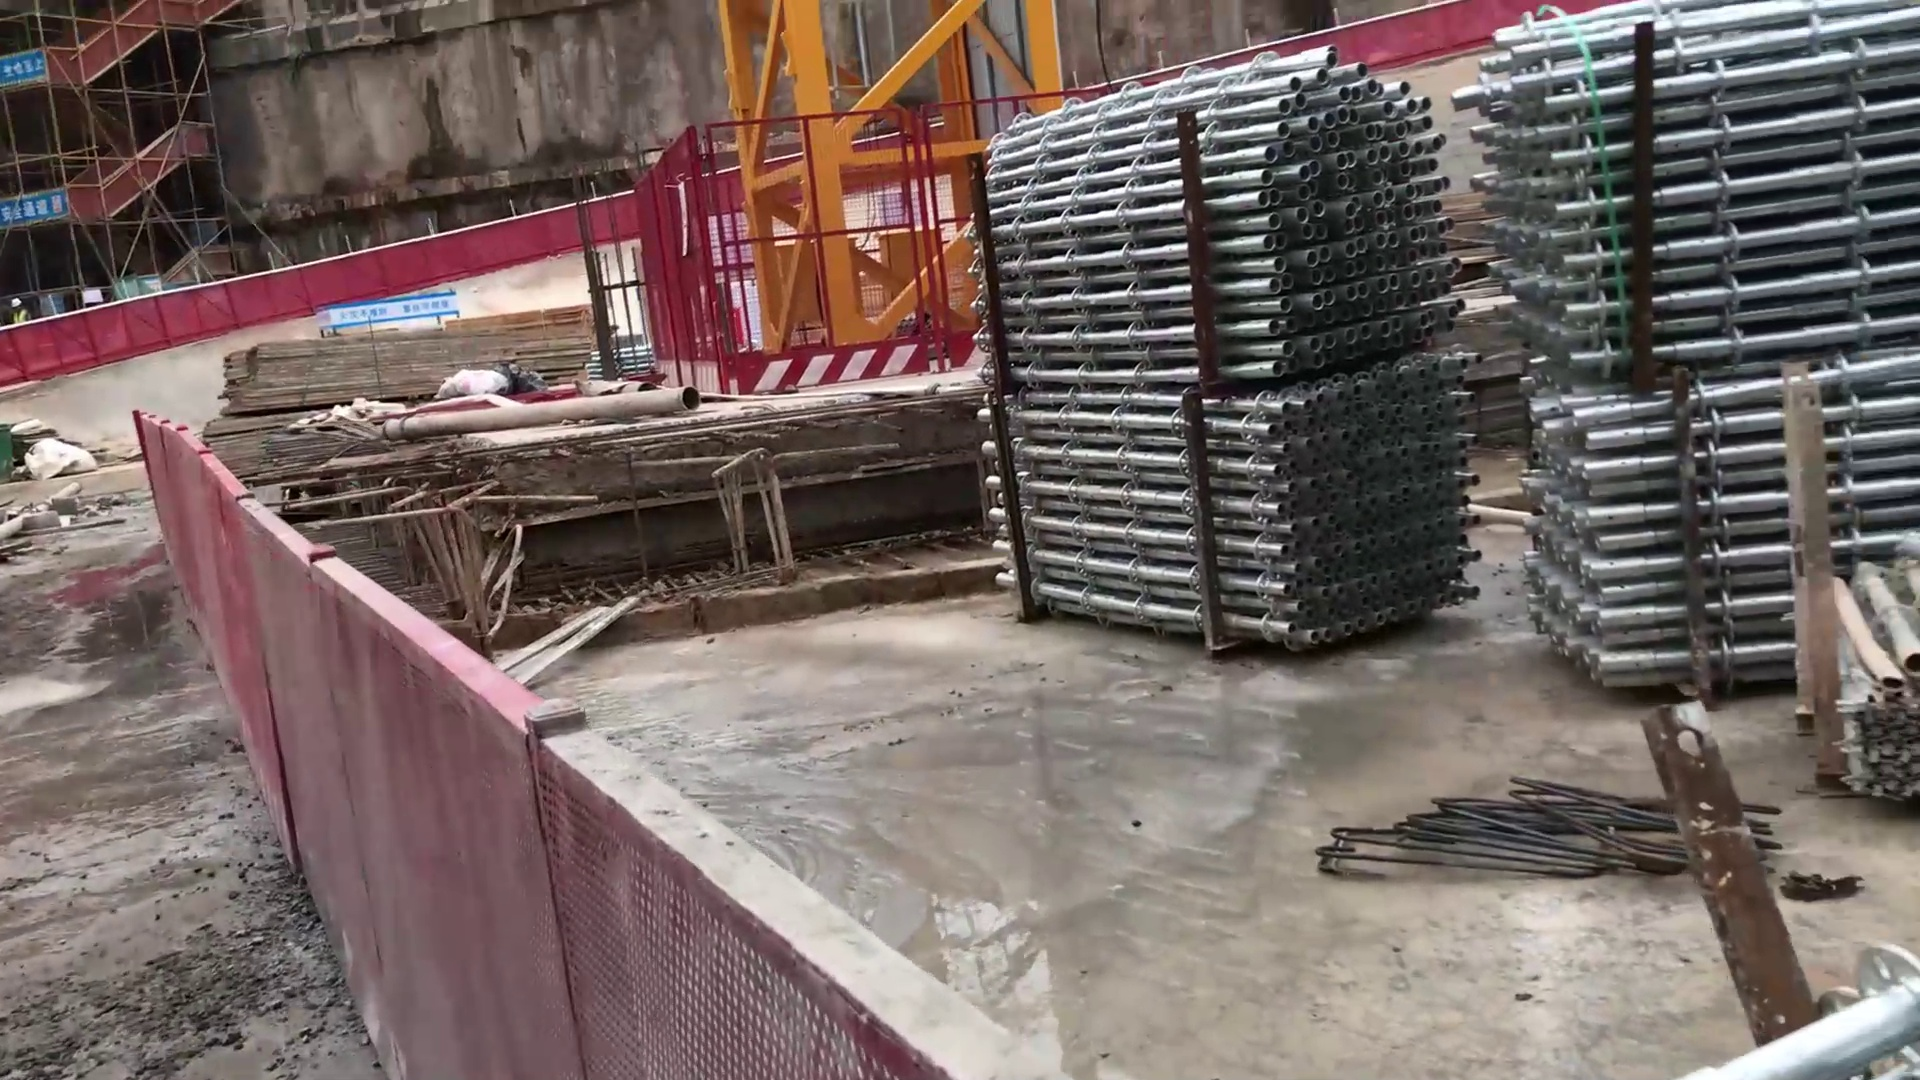fence: (96, 270, 297, 365)
rebar: (1309, 757, 1681, 901), (182, 301, 630, 409)
scaffold: (1501, 8, 1920, 835), (981, 49, 1484, 673)
slogan: (301, 294, 460, 331), (1, 187, 74, 231), (1, 50, 59, 98)
